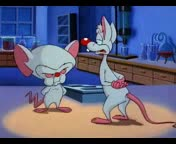cerebro: (12, 33, 79, 118)
pink: (80, 20, 176, 132)
